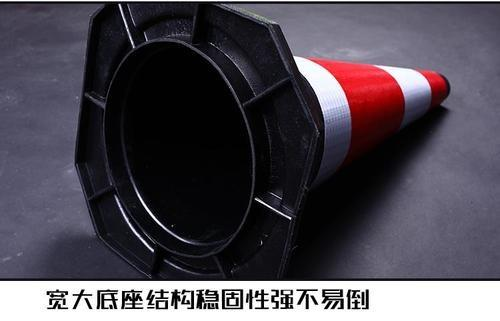cone_barrel: (281, 53, 455, 191)
